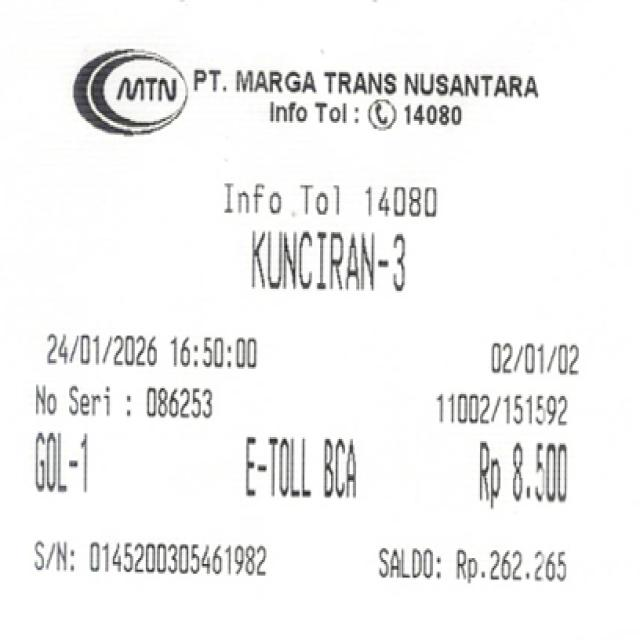date: (43, 324, 259, 376)
store: (184, 65, 543, 104)
total: (468, 434, 573, 511)
